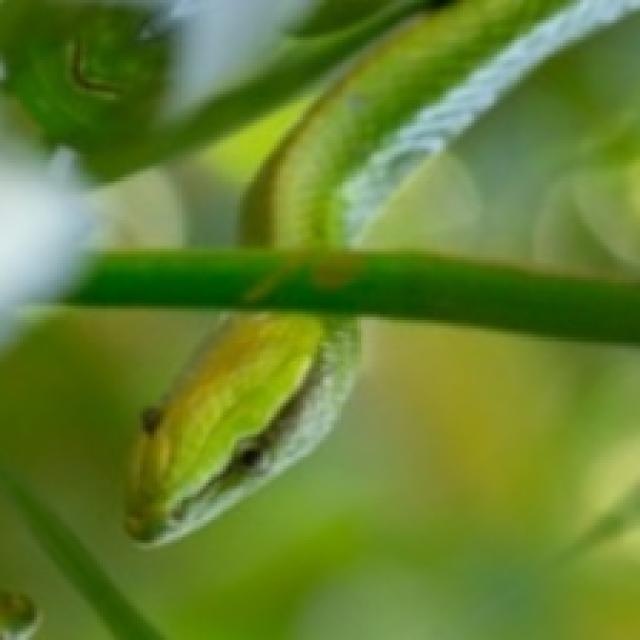red-tailed green ratsnake: (243, 0, 640, 248), (128, 316, 356, 543)
